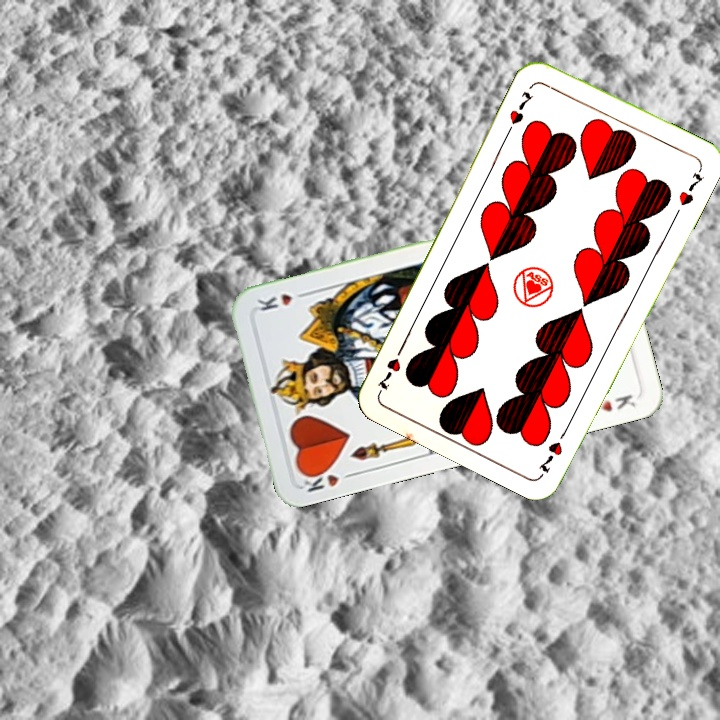H7: (534, 423, 571, 477), (505, 87, 536, 128)
HK: (297, 462, 358, 495)
